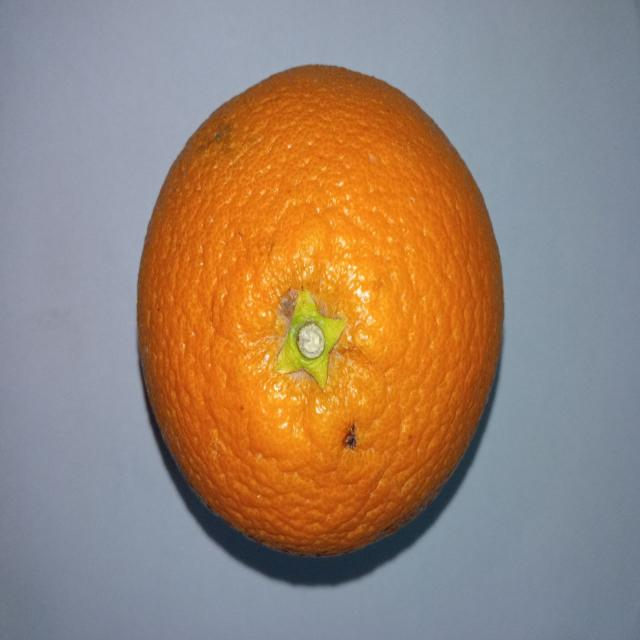fresh_orange: (136, 64, 502, 559)
